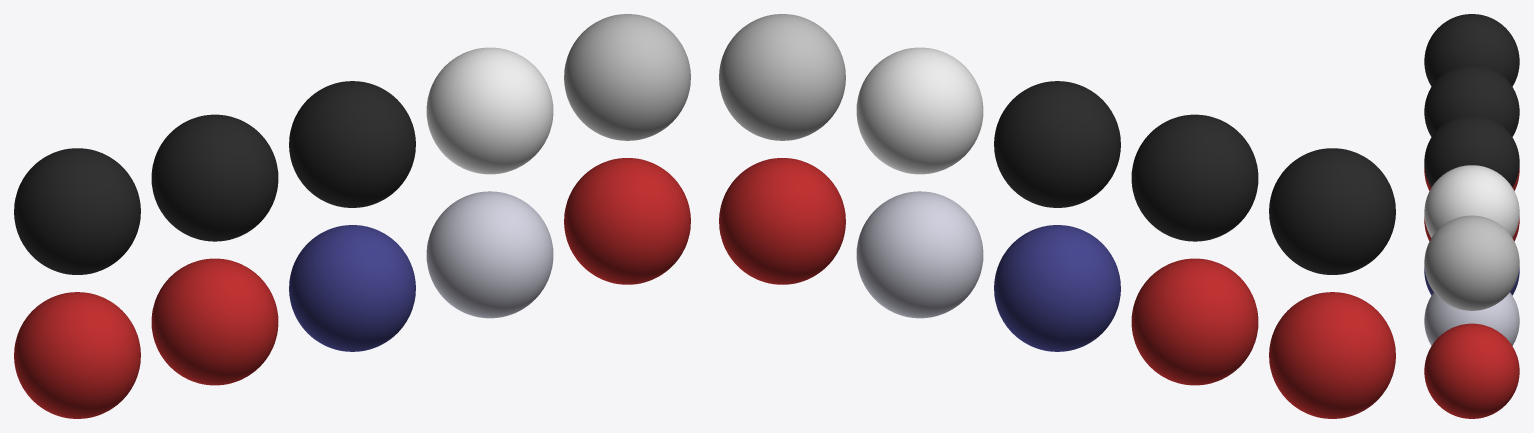
Rendered from ior_specular_coat.gltf.
3 views of the same model, side by side, from view 1: azimuth 30°, elevation 25°; view 2: azimuth 150°, elevation 25°; view 3: azimuth 270°, elevation 25° (orthographic). The views are drawn at different scales.
Bounding box in the file's own units: 4.8 × 1.8 × 0.8.
